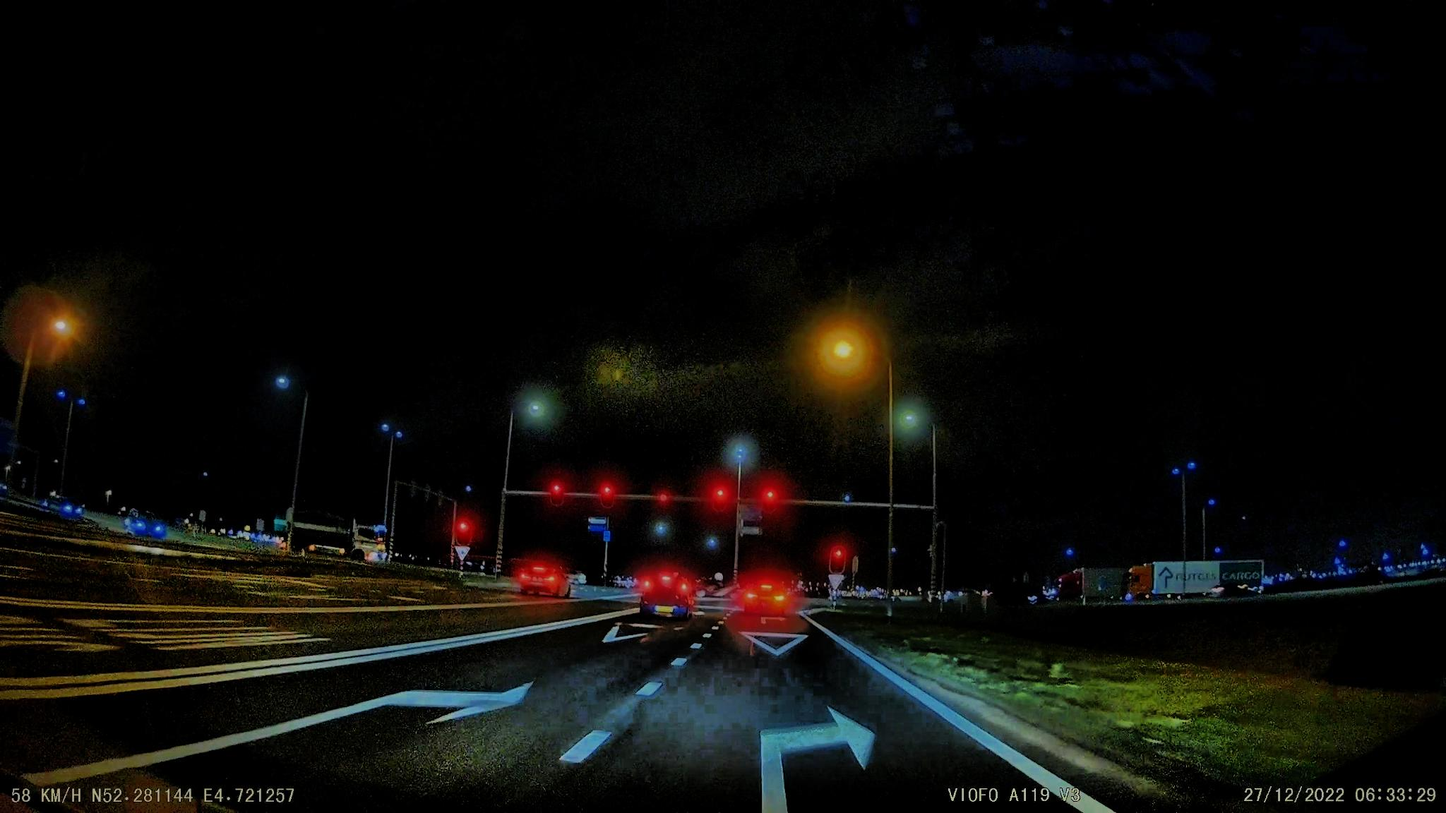Roads: (0, 550, 1120, 813)
